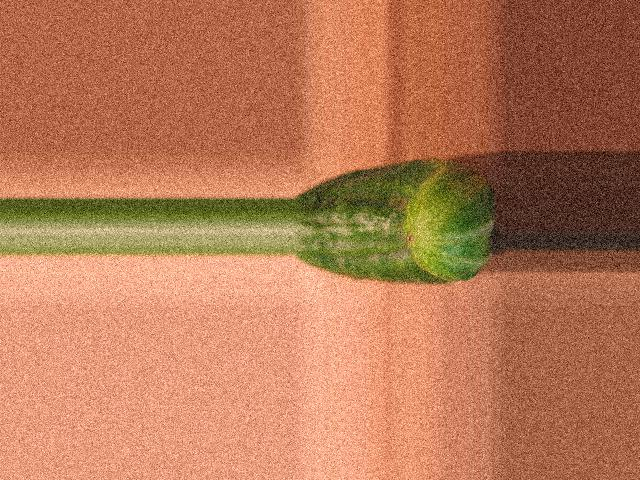cucumber: (294, 159, 493, 285)
